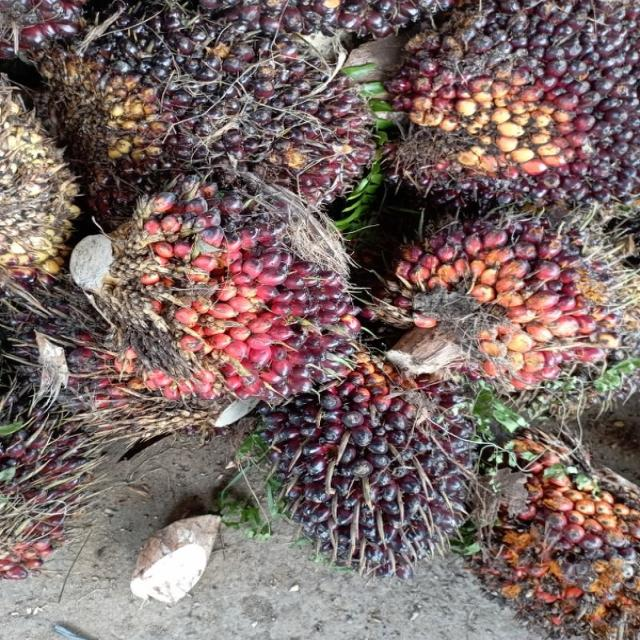fraksi 1: (62, 148, 397, 461)
